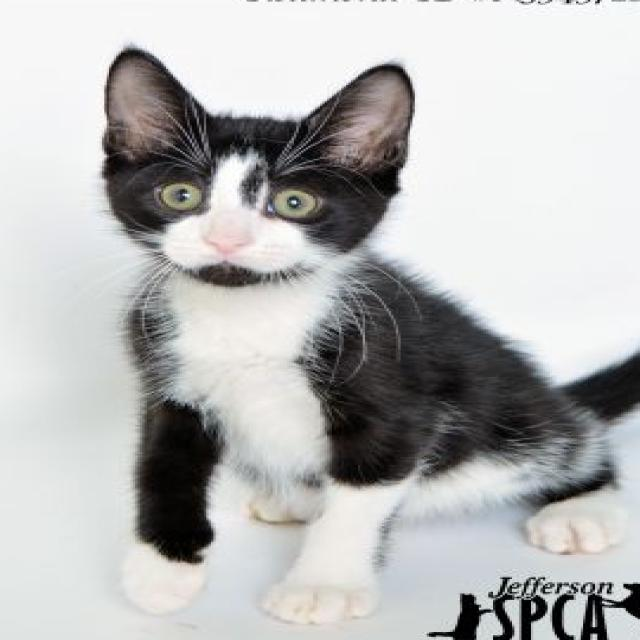Tuxedo: (97, 40, 640, 626)
